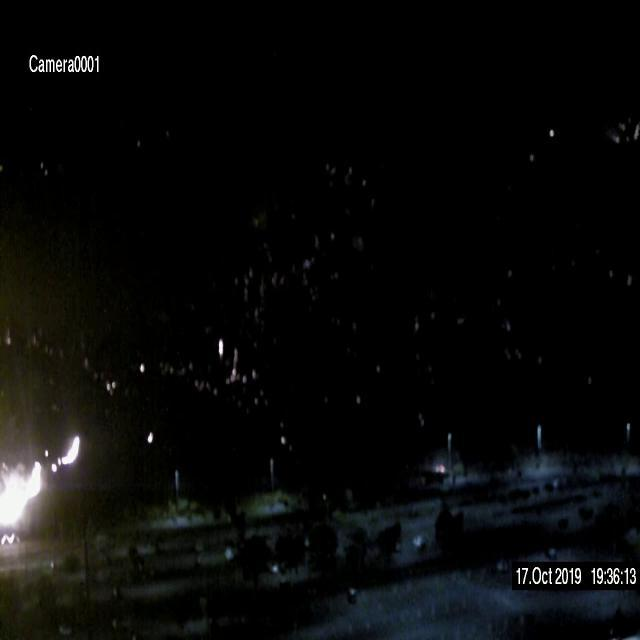Fire: (2, 458, 42, 526), (52, 433, 80, 474)
